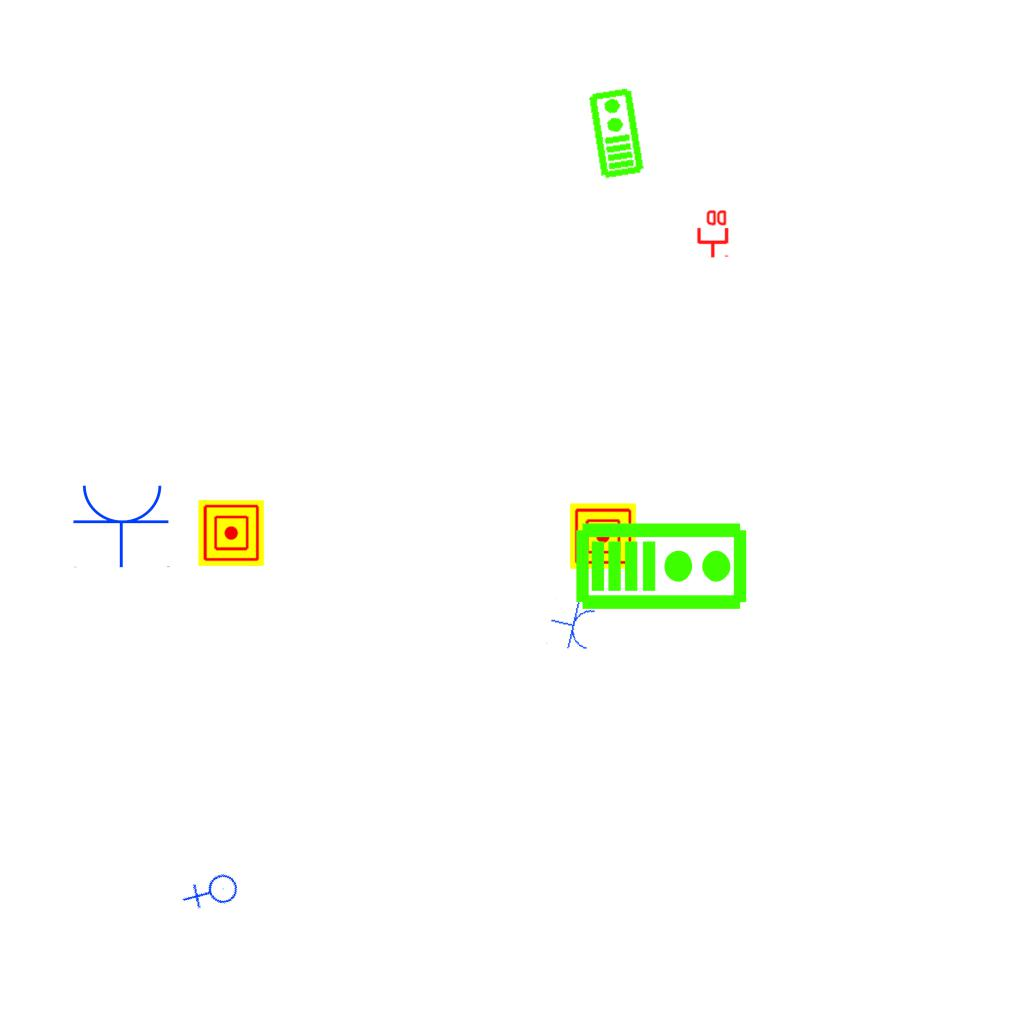Datenanschluss_zweifach: (695, 208, 729, 259)
Elektroanschluss_allgemein_230V_Geraeteanschlussdose_230V: (180, 861, 247, 926)
Gegensprechanlage_mit_Video: (574, 517, 750, 612), (585, 85, 646, 181)
NAM-Nichtautomatischer_Melder: (570, 503, 636, 569), (198, 500, 264, 566)
Schukosteckdose_einfach: (72, 481, 172, 568), (545, 596, 599, 655)
